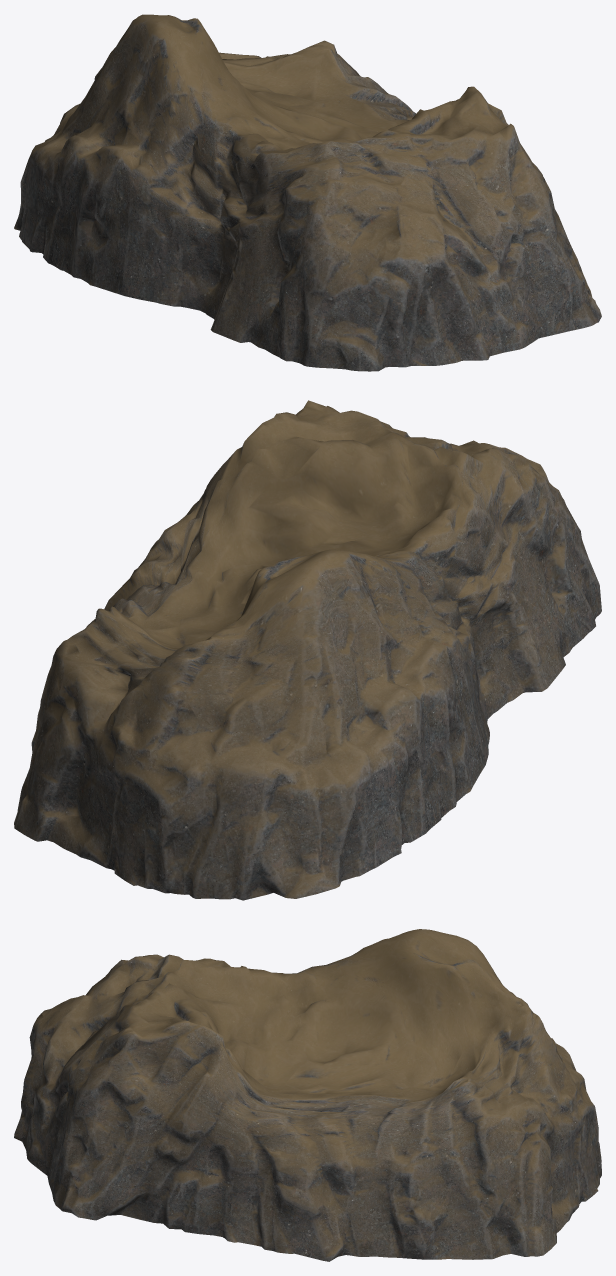
File: Cliff_34.fbx
3 views of the same model, one above another, from view 1: azimuth 30°, elevation 25°; view 2: azimuth 150°, elevation 25°; view 3: azimuth 270°, elevation 25° (orthographic). The views are drawn at different scales.
Parts seen in each view (by area): view 1: Cliff_34; view 2: Cliff_34; view 3: Cliff_34.
Part boxes in pixels (bbox=[...]): Cliff_34: bbox=[14, 14, 601, 371]; Cliff_34: bbox=[14, 400, 601, 900]; Cliff_34: bbox=[14, 929, 601, 1261].
Bounding box in the file's own units: 3675 × 2379 × 5538.
